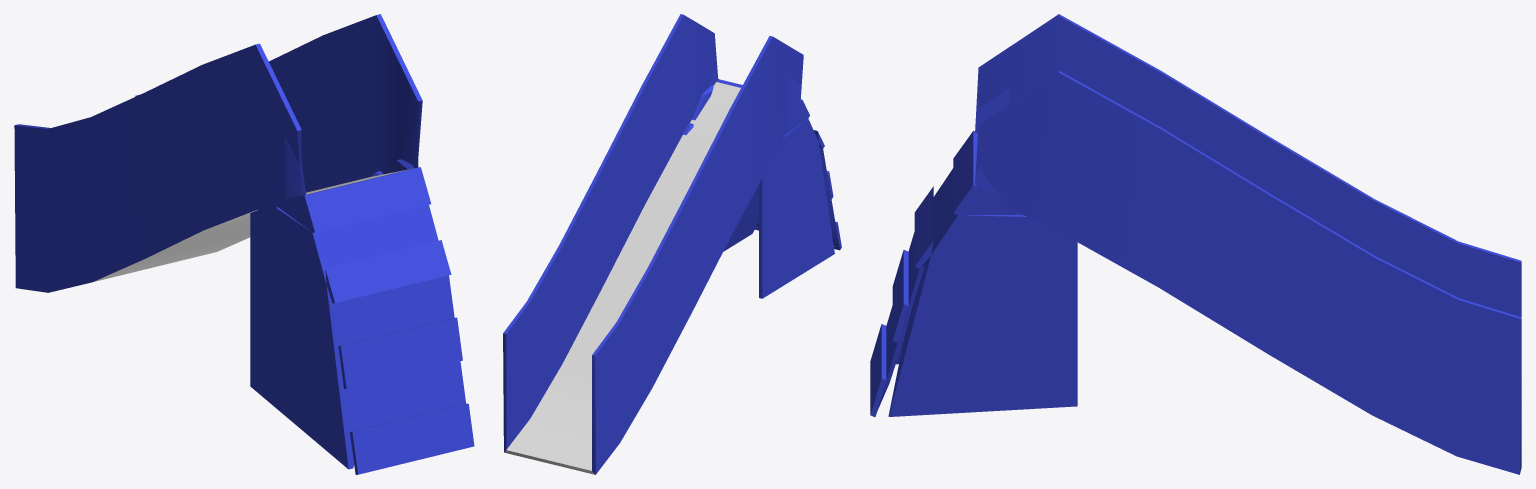
File: haapalinna_liukumaki.fbx
The picture shows the model from 3 angles, left to right: view 1: azimuth 30°, elevation 25°; view 2: azimuth 150°, elevation 25°; view 3: azimuth 270°, elevation 25°; orthographic projection. The views are drawn at different scales.
Visible parts, largest first — view 1: Plane.026; view 2: Plane.026; view 3: Plane.026.
Part boxes in pixels (x1,y1,x2,y2): Plane.026: (14, 14, 474, 474); Plane.026: (503, 14, 841, 474); Plane.026: (870, 14, 1521, 474).
Size of the model in its own units: 112 by 358 by 524.
